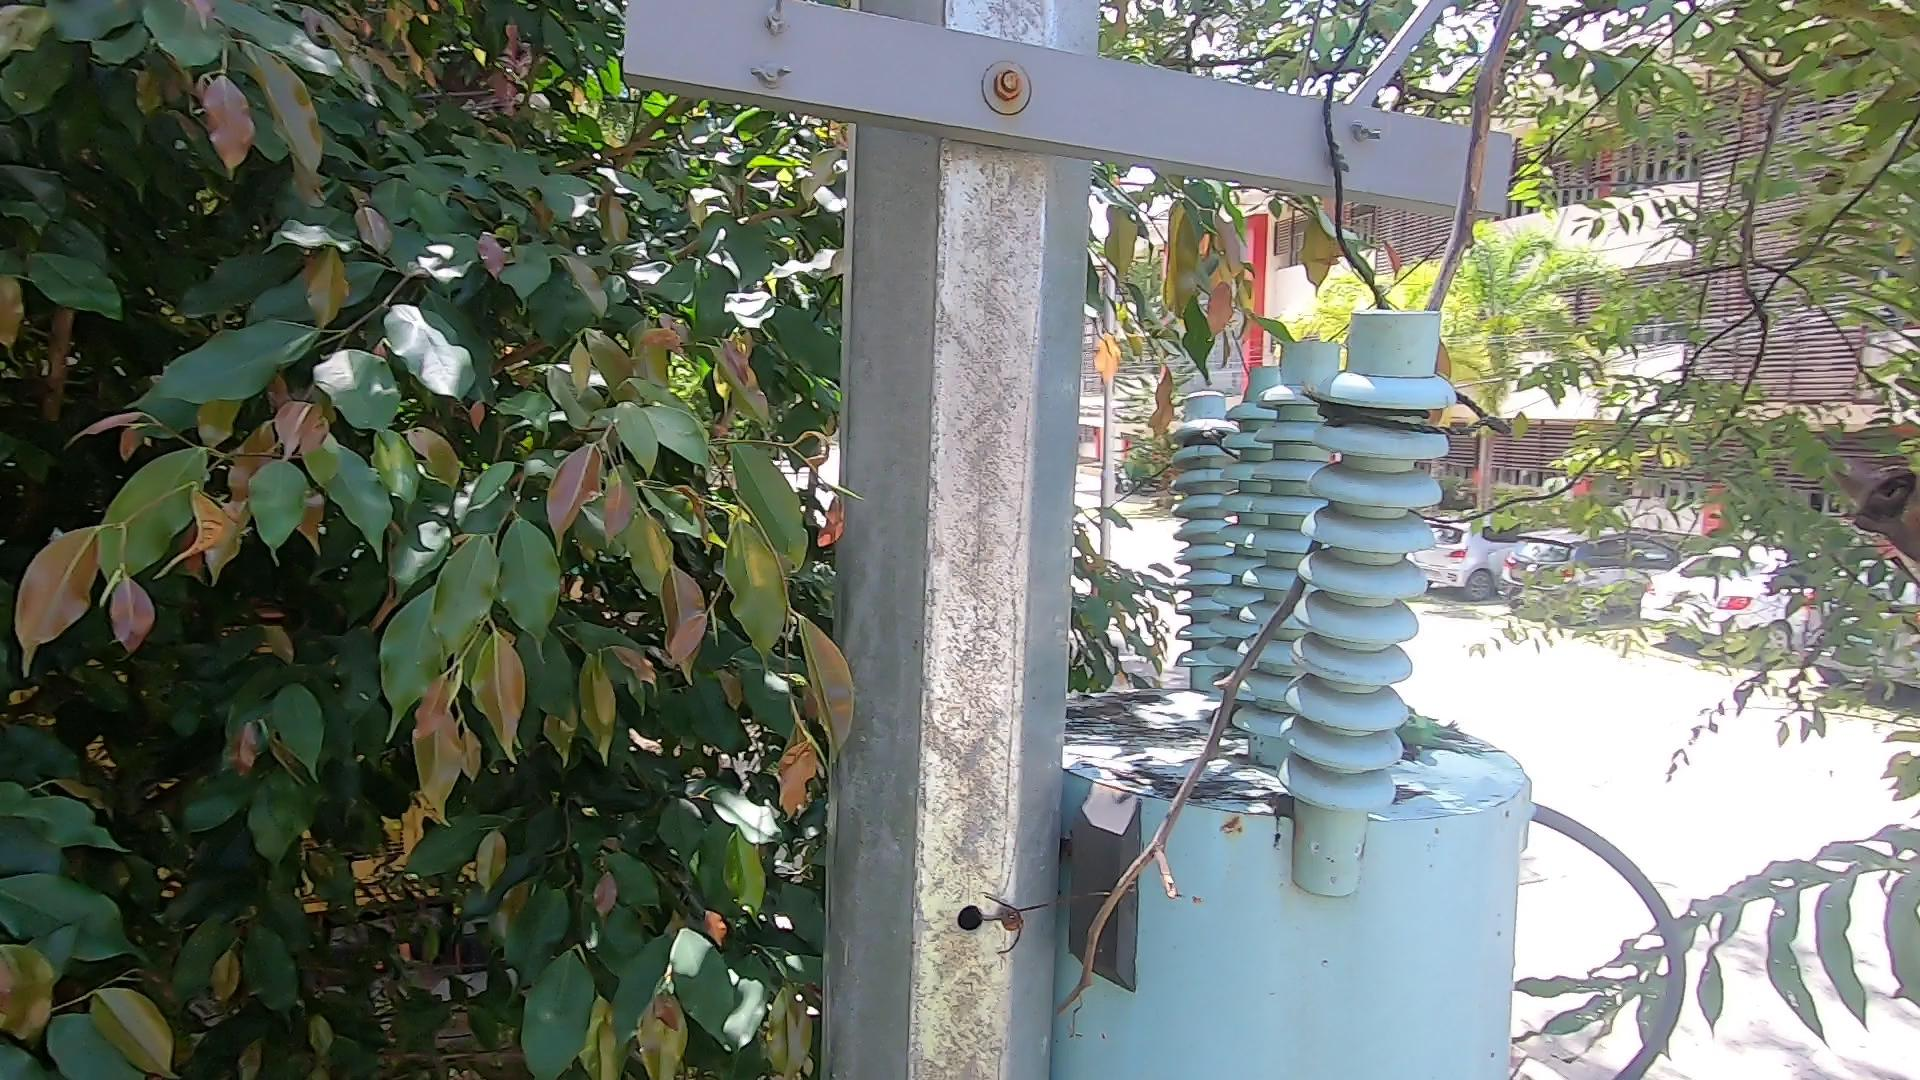branch with leaves: (1091, 223, 1367, 400)
leaf: (1238, 769, 1305, 835), (1396, 709, 1465, 767), (1072, 696, 1163, 728)
tree branch: (972, 7, 1557, 1027)
